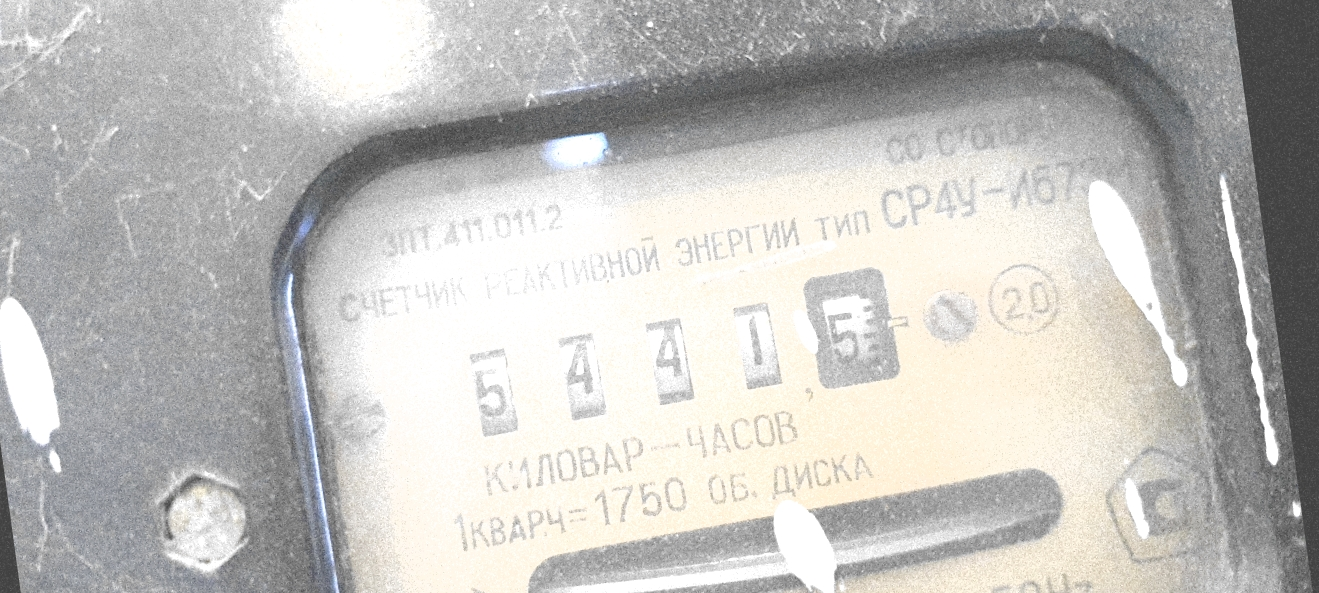1: (738, 310, 769, 371)
4: (644, 317, 689, 388), (557, 335, 600, 401)
5: (467, 361, 513, 423), (822, 304, 865, 370)
screen: (437, 240, 928, 468)
